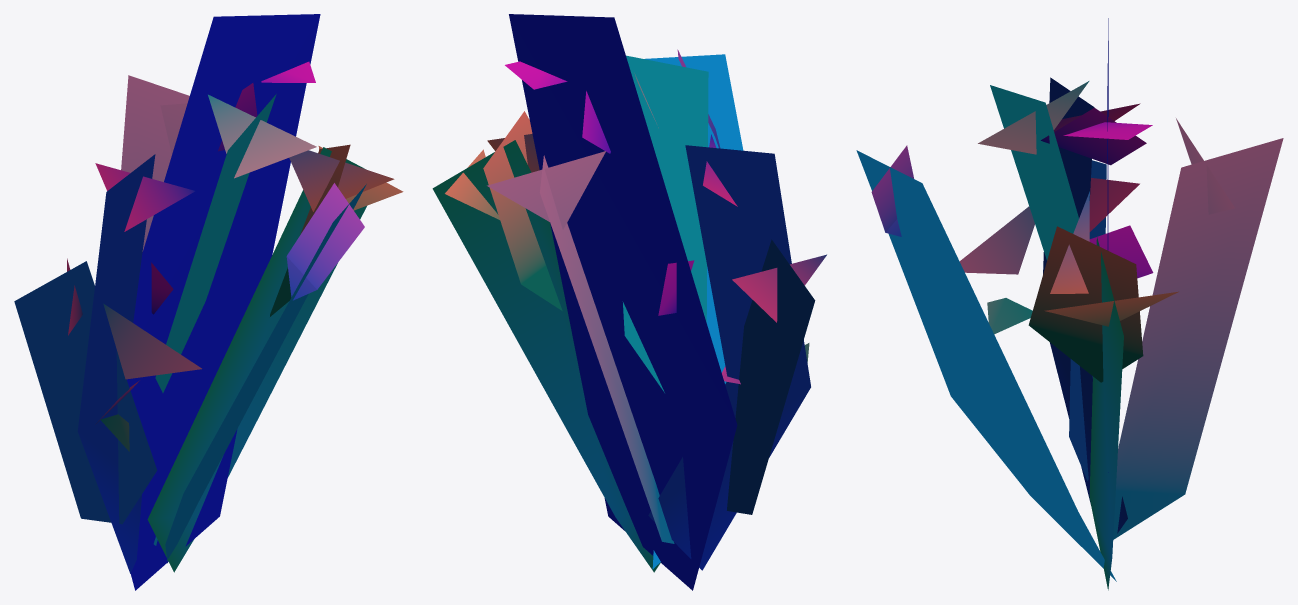
File: Nordic_Coastal_Groundcover_vlqkdeaja_Mid_vlqkdeaja_VarJ_LOD1.fbx
3 renders of one model, left to right at view 1: azimuth 30°, elevation 25°; view 2: azimuth 150°, elevation 25°; view 3: azimuth 270°, elevation 25°, orthographic. The views are drawn at different scales.
Visible parts, largest first — view 1: _ygv0_VarJ_LOD3; view 2: _ygv0_VarJ_LOD3; view 3: _ygv0_VarJ_LOD3.
Part boxes in pixels (left/top/right/bottom): _ygv0_VarJ_LOD3: left=14, top=14, right=403, bottom=590; _ygv0_VarJ_LOD3: left=432, top=14, right=826, bottom=590; _ygv0_VarJ_LOD3: left=856, top=18, right=1283, bottom=590.
Bounding box in the file's own units: 21.39 × 30.23 × 19.26.
